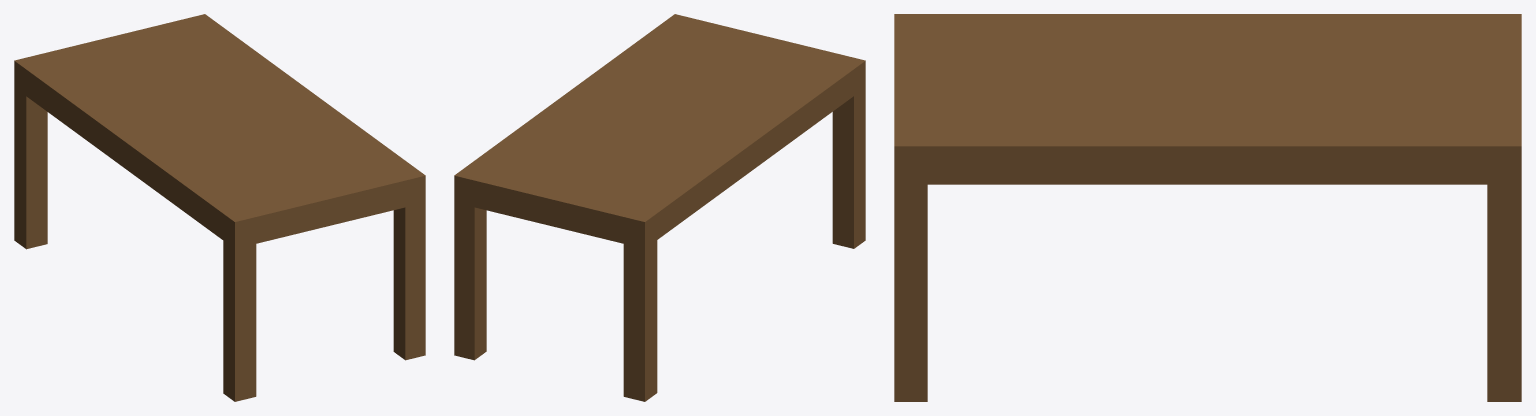
Rendered from Mesa.fbx.
The picture shows the model from 3 angles, left to right: view 1: azimuth 30°, elevation 25°; view 2: azimuth 150°, elevation 25°; view 3: azimuth 270°, elevation 25°; orthographic projection. The views are drawn at different scales.
Parts seen in each view (by area): view 1: Cube; view 2: Cube; view 3: Cube.
Part boxes in pixels (<box>): Cube: <box>14,14,425,401</box>; Cube: <box>454,14,865,401</box>; Cube: <box>894,14,1521,401</box>.
Size of the model in its own units: 200 by 180 by 401.
